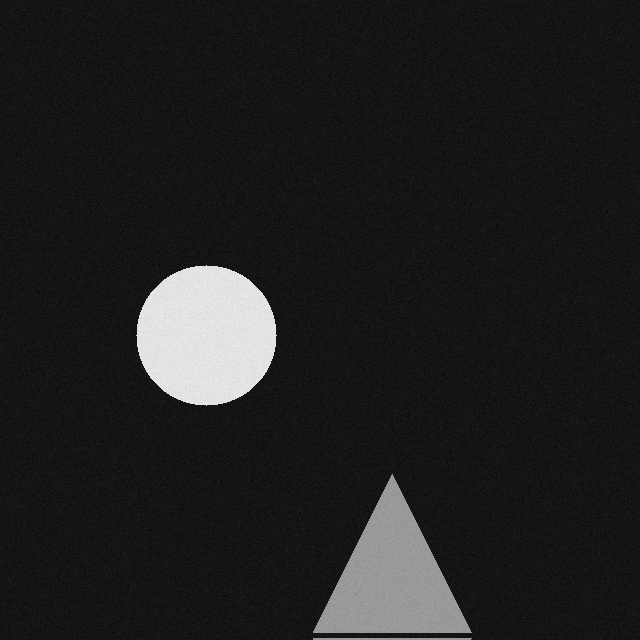circle: (132, 269, 272, 409)
triangle: (309, 478, 467, 636)
